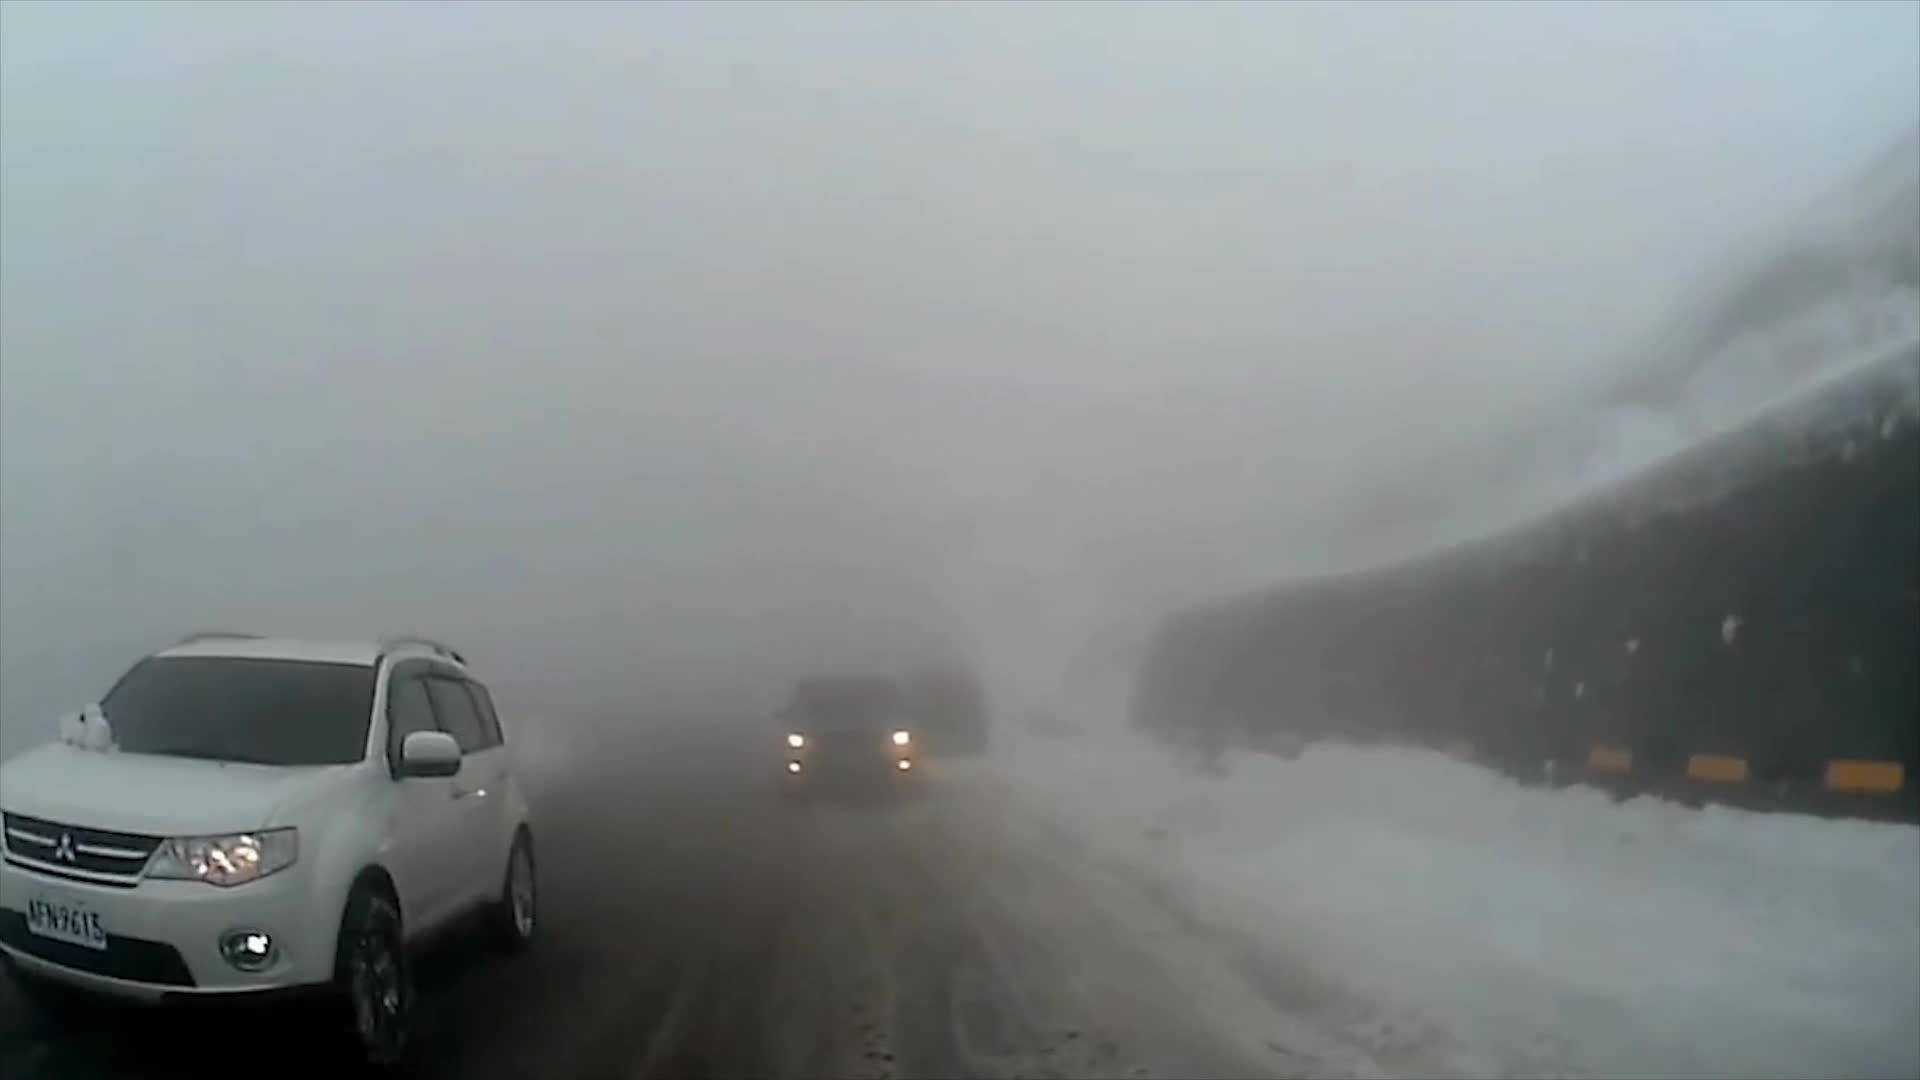vehicle: (3, 630, 543, 1077), (767, 669, 920, 804)
